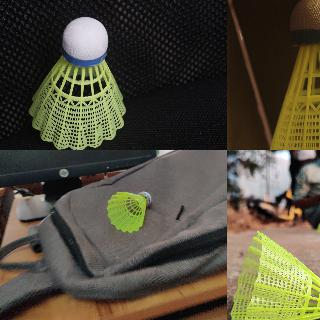shuttlecock: (28, 17, 126, 149), (227, 228, 319, 319), (263, 0, 319, 149), (107, 192, 151, 232)
